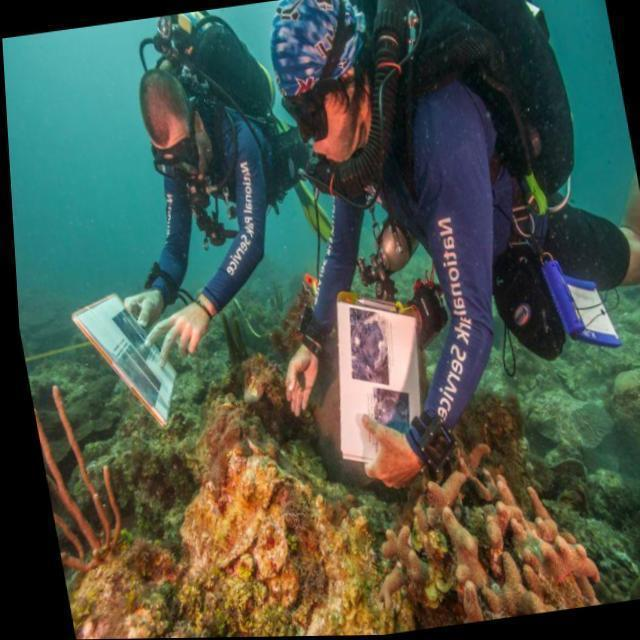Dead Coral: (373, 474, 592, 632), (521, 403, 640, 612)
